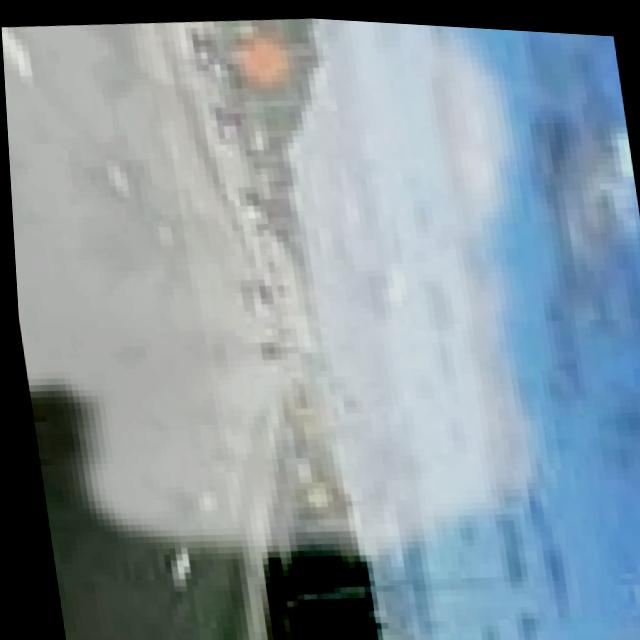smoke: (0, 0, 589, 613)
